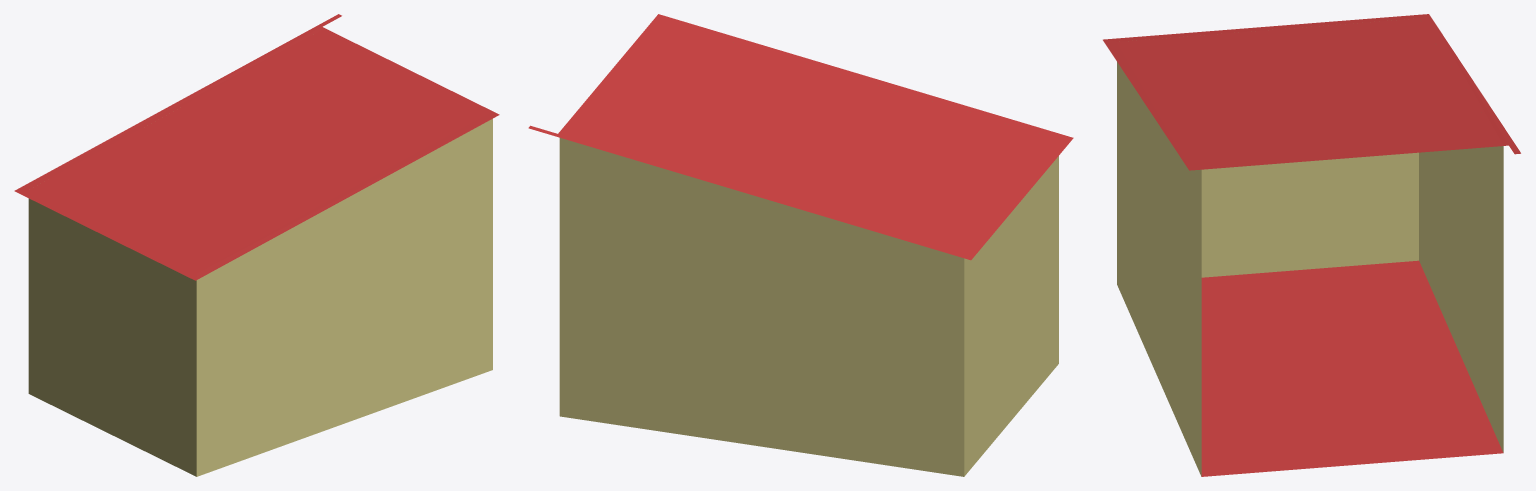
3 views of the same model, side by side, from view 1: azimuth 30°, elevation 25°; view 2: azimuth 150°, elevation 25°; view 3: azimuth 270°, elevation 25° (orthographic). The views are drawn at different scales.
Size of the model in its own units: 10.64 by 8.43 by 6.92.
